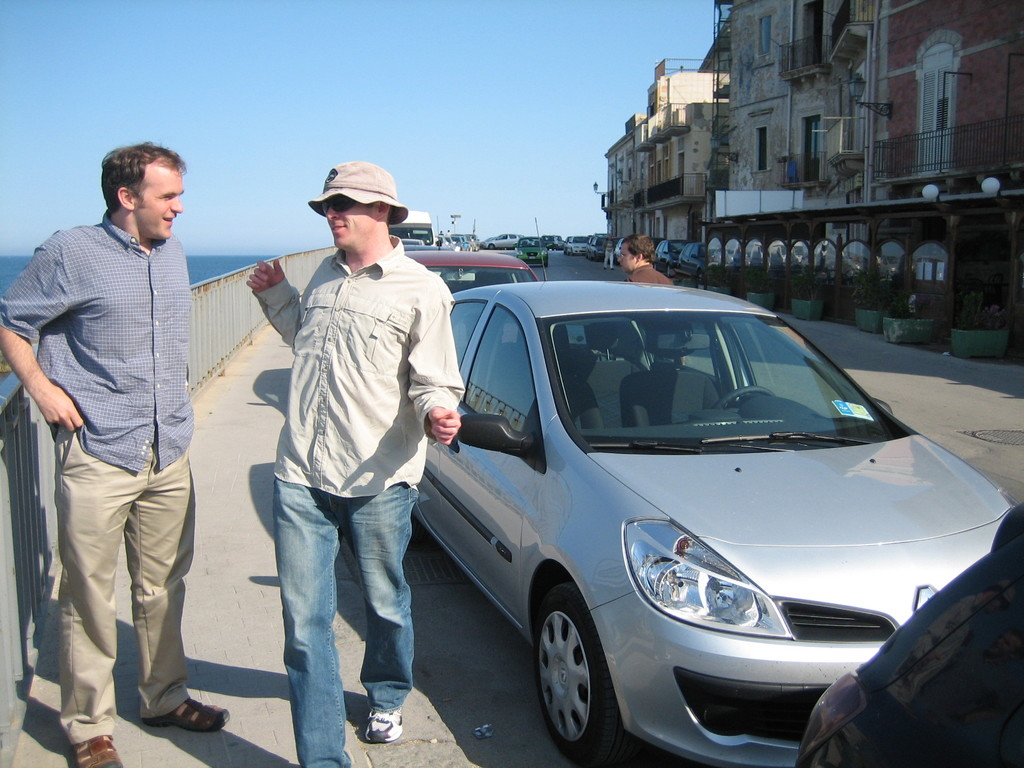Car: (411, 275, 1012, 767), (408, 251, 536, 298), (515, 238, 547, 263), (480, 234, 519, 247), (394, 231, 424, 246)
